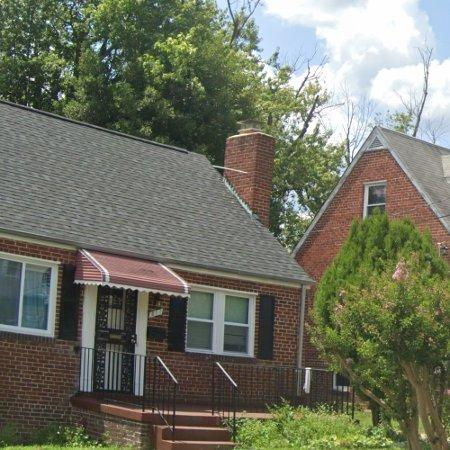chimneys: (224, 121, 275, 228)
stairs: (143, 358, 235, 450)
